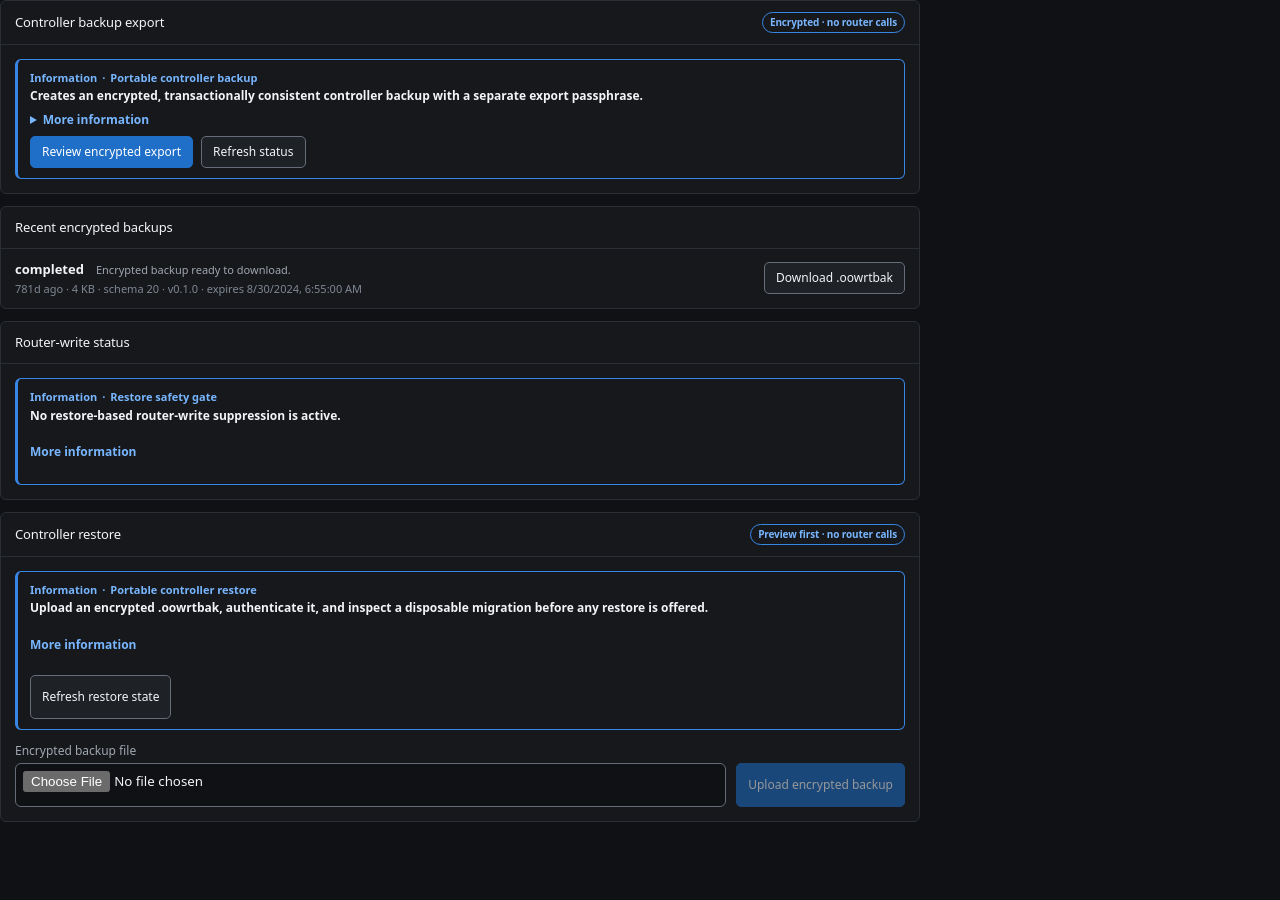
Test: Backups › requires a fresh reauthentication before constructing a native download
Click the button "Download .oowrtbak".
click(834, 278)  # box [764,262,905,294]
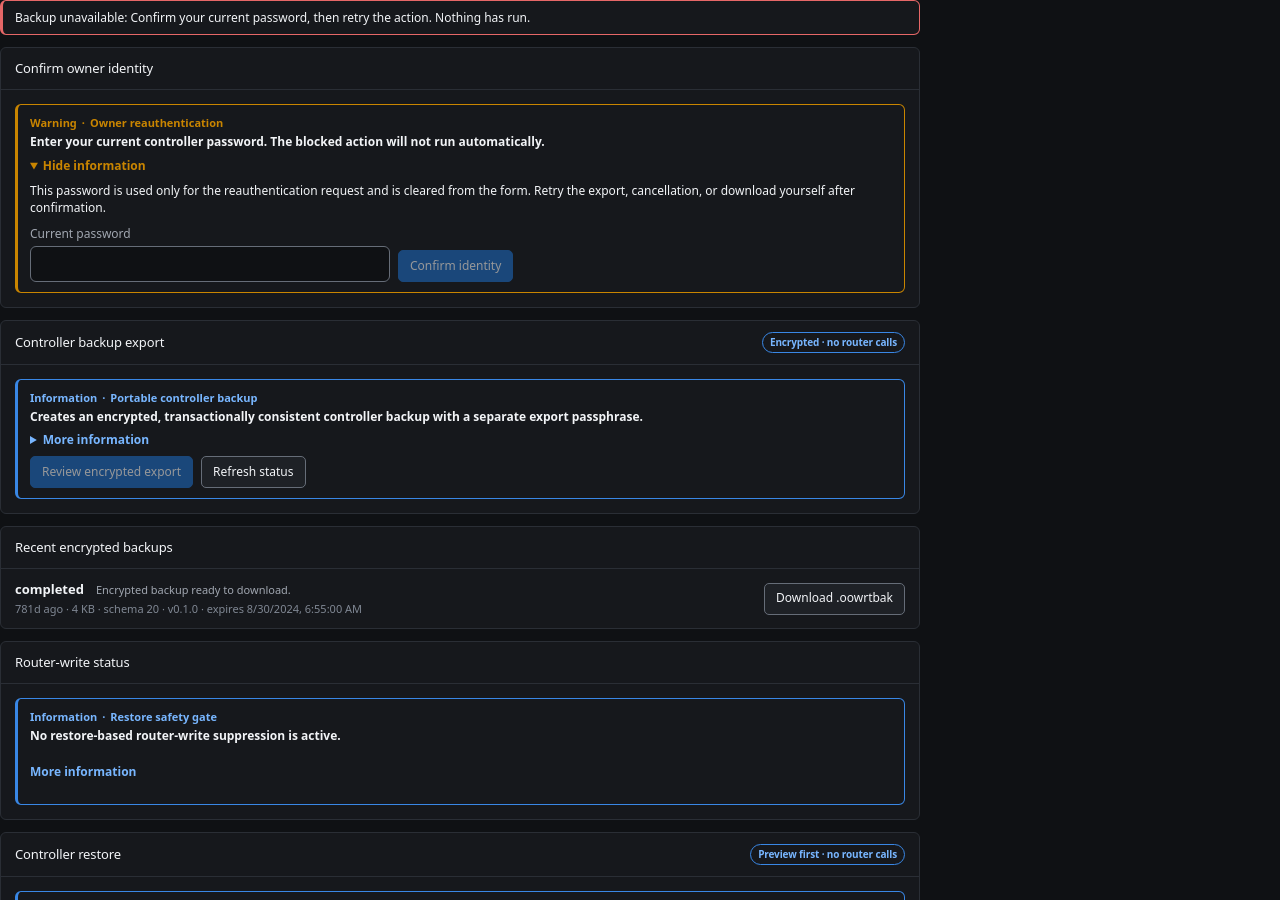
Expected: the password field labelled "Current password" is shown, [30,246,390,282]
